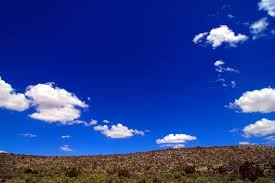ground: (4, 147, 272, 183)
sky: (2, 2, 274, 147)
